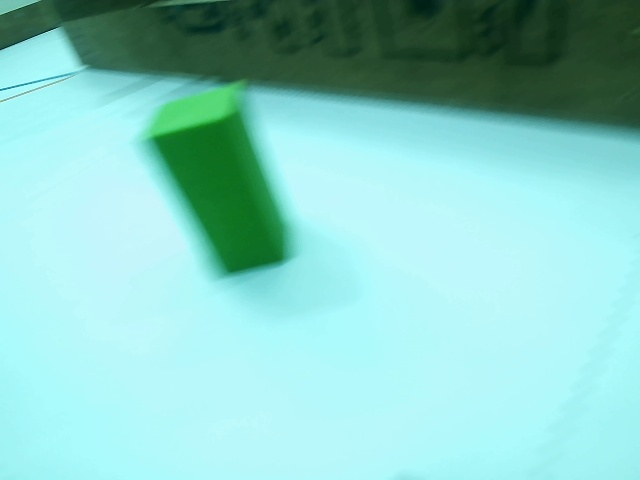green: (128, 88, 321, 278)
